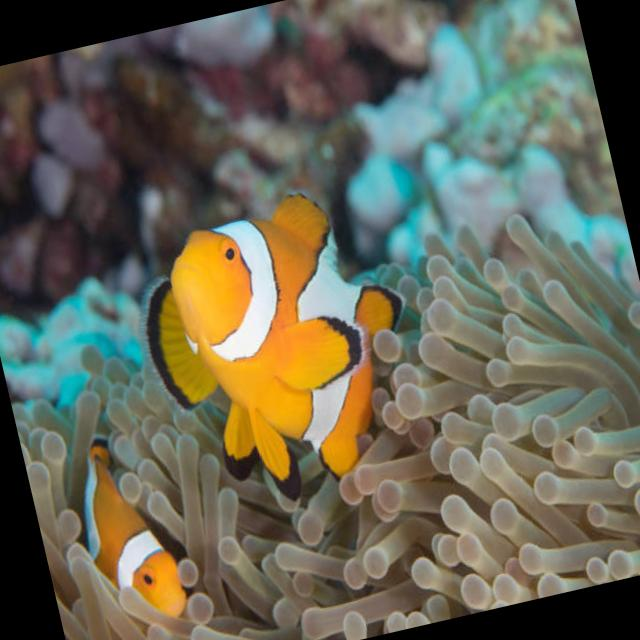ClownFish: (126, 168, 441, 518), (70, 428, 189, 630)
